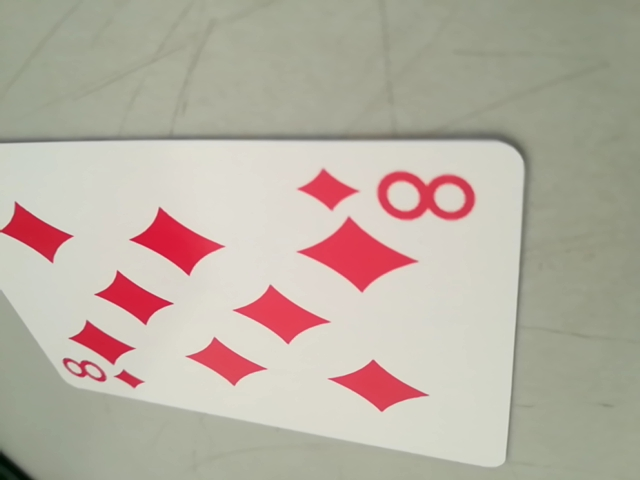fk 8: (301, 163, 480, 230), (56, 355, 142, 392)
